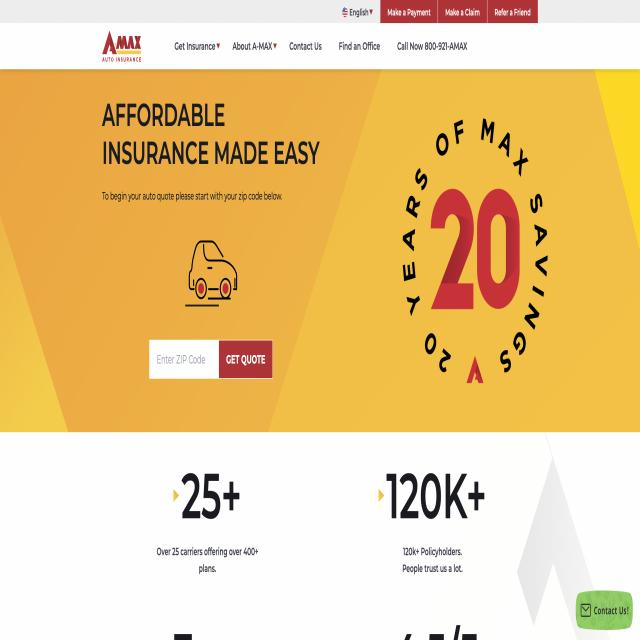Logo: (96, 23, 157, 69)
Navigation: (168, 23, 487, 69)
